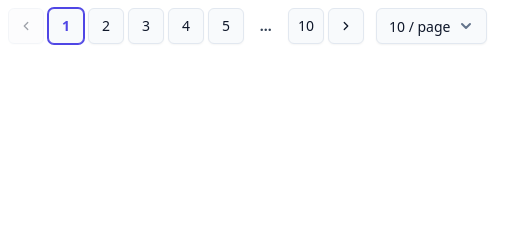
Scenario: Pagination Component (SPEC-029) › Page Size Changer (Select Integration) & Quick Jumper › opens dropdown and updates page size and page calculation on option click
The image size is (506, 225).
Expected: the button named "Page 10" is shown, [288,8,324,44]
// Open Select dropdown
What coordinates should you click on to do the following:
click the dropdown named "Page size"
I would click on:
 (432, 26)
Its box is [376,8,488,44].
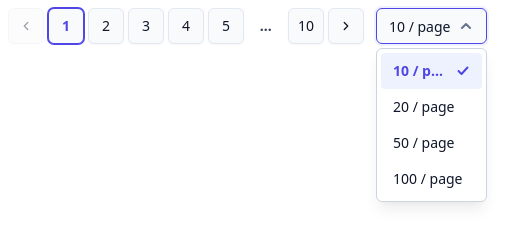
Expected: the dropdown named "Page size" is expanded, [376,8,488,44]
Expected: the option "20 / page" is shown
// Click option
What coordinates should you click on to do the following:
click the option "20 / page"
I would click on:
 (424, 107)
Its box is [393,97,454,116].
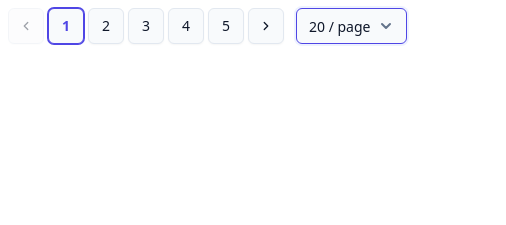
Expected: the button named "Page 5" is shown, [208,8,244,44]
Expected: the dropdown named "Page size" reads "20 / page", [296,8,408,44]
Expected: the list "page 10" is gone
